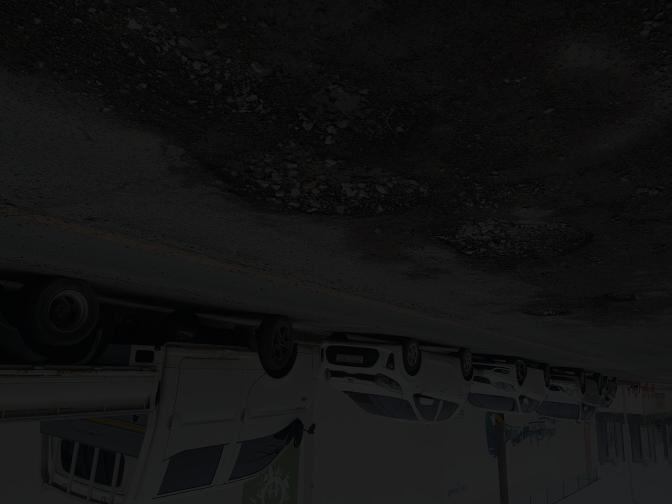pothole: (219, 147, 416, 258), (442, 194, 600, 293)
